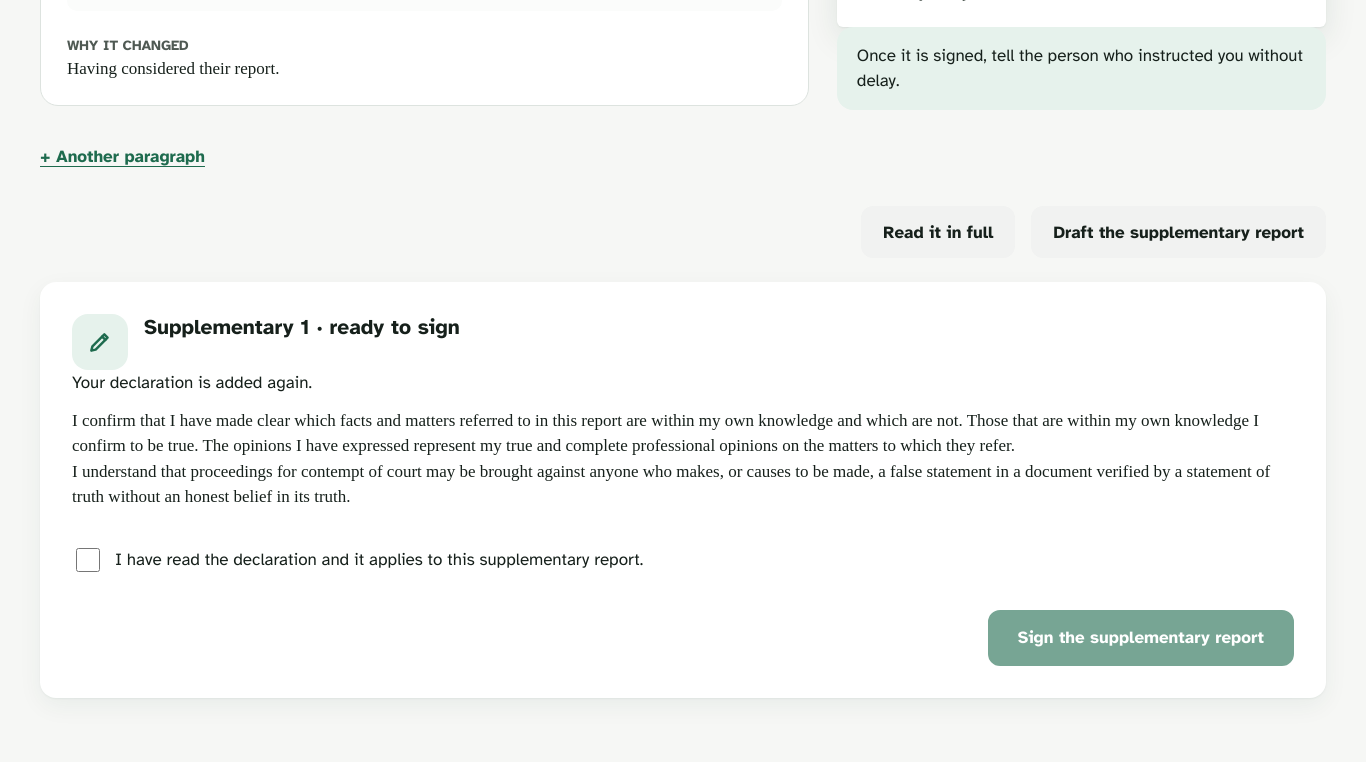
signing the supplementary report needs the box ticked and the code, then shows it locked
(page scrolled)
Expected: the text "I confirm that I have made clear which facts and matters referred to in this report are within my own knowledge and whic" is shown, [72,411,1259,455]
Expected: the text "I understand that proceedings for contempt of court may be brought against anyone who makes, or causes to be made, a fal" is shown, [72,462,1270,506]
Click the checkbox labelled "I have read the declaration and it applies to this supplementary report." at (88,560), box [76,548,100,572]
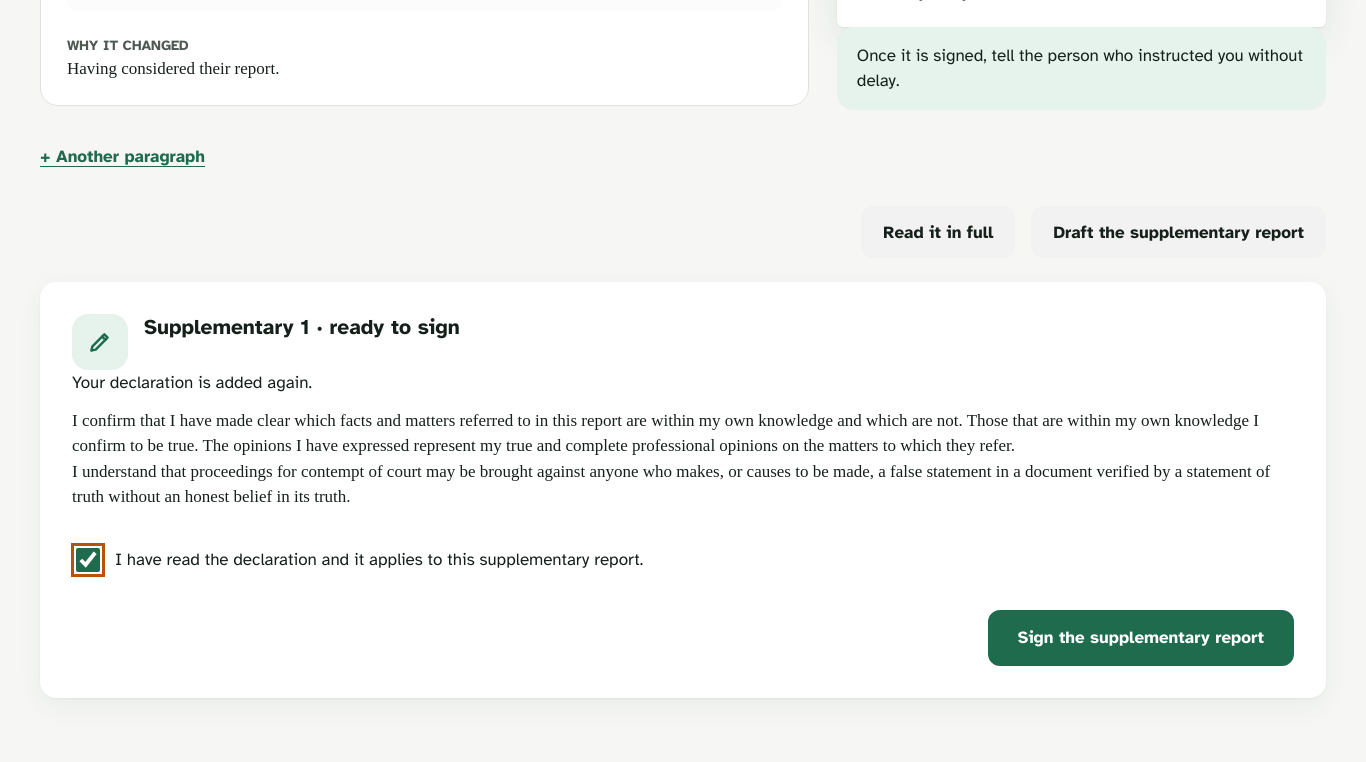
Click the button "Sign the supplementary report" at (1141,638), box [988,610,1294,666]
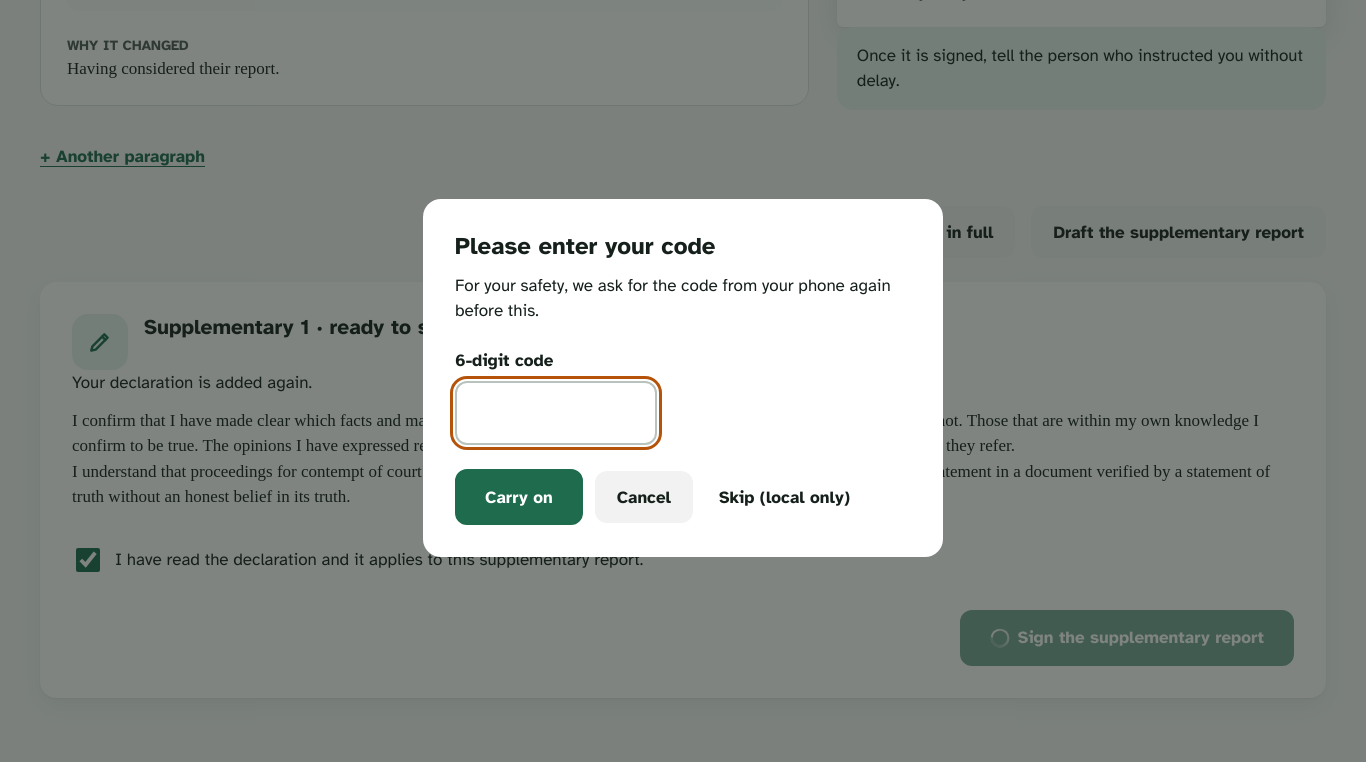
Type "123456" into the field labelled "6-digit code" at (556,413), box [455,381,657,445]
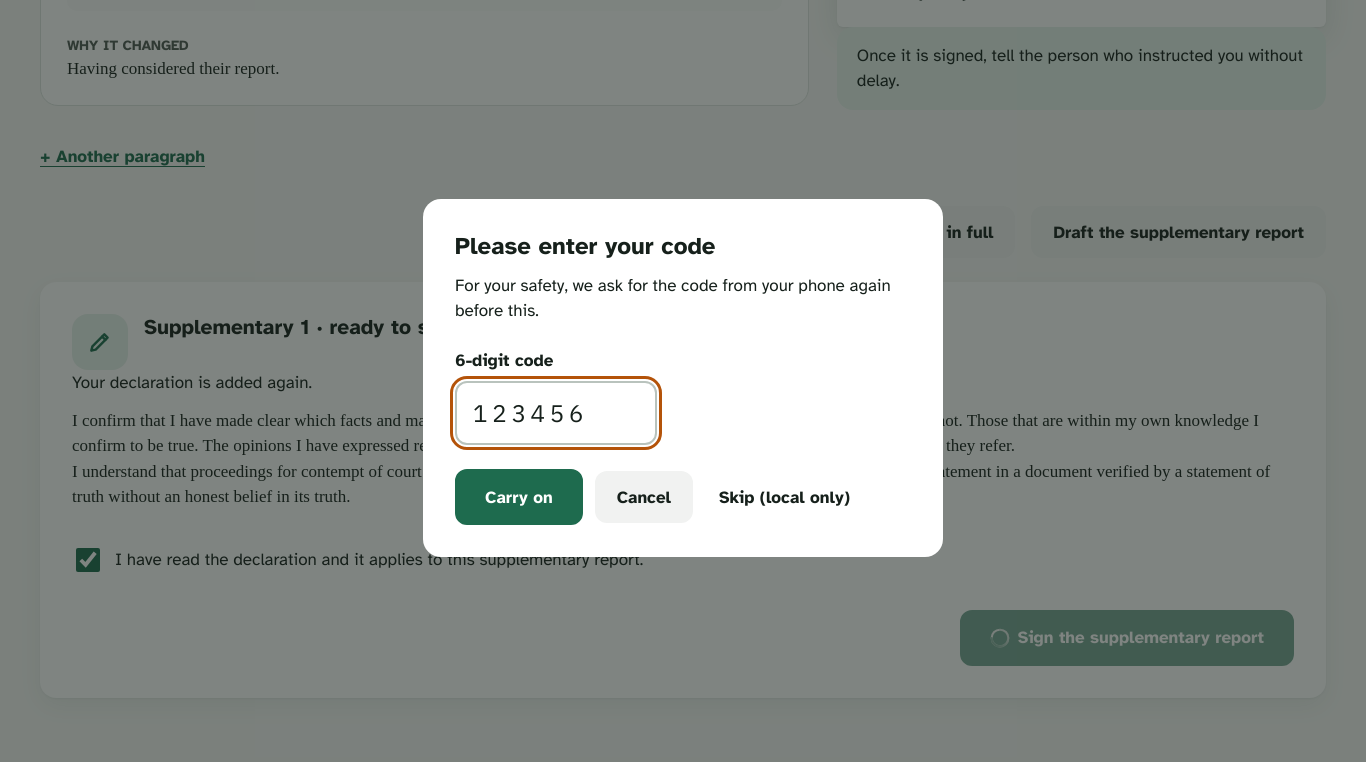
Click the button "Carry on" at (519,497), box [455,469,583,525]
(page scrolled)
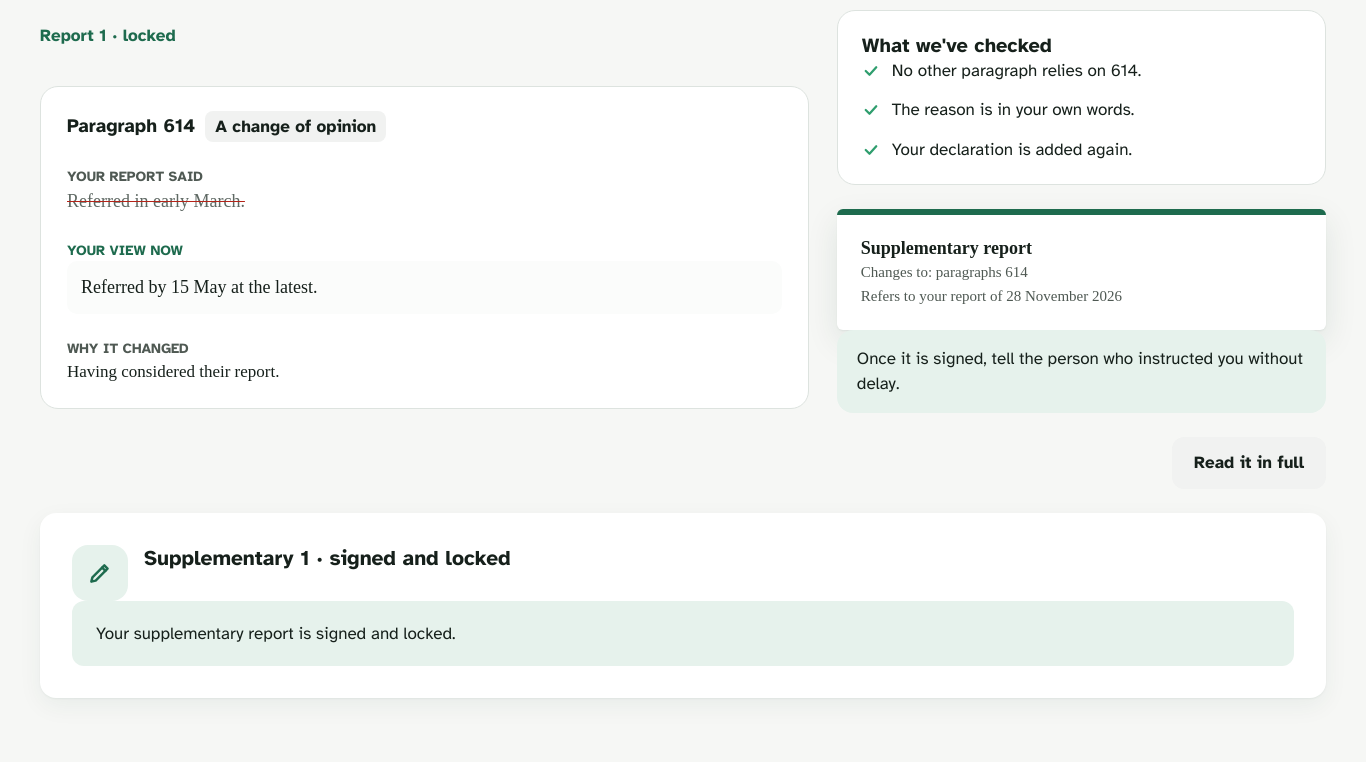
Expected: the text "Your supplementary report is signed and locked." is shown, [96,623,456,644]
Expected: the button "Sign the supplementary report" is gone
